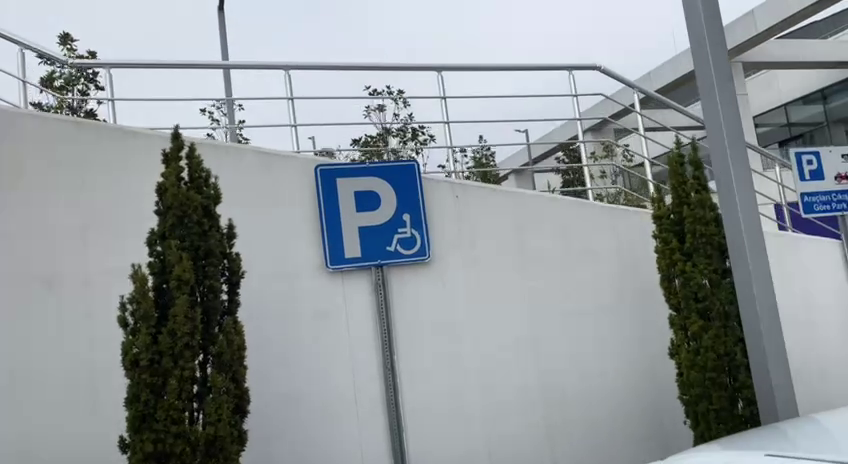parking: (313, 160, 433, 272), (791, 149, 830, 184)
